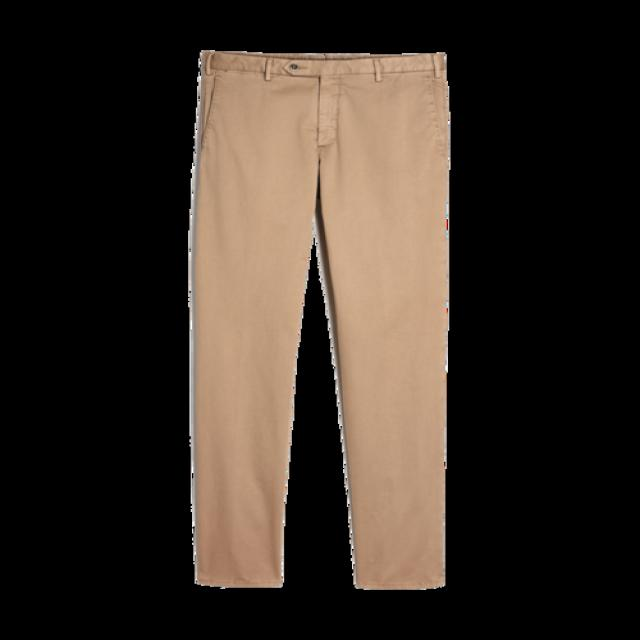long-pants: (192, 52, 445, 592)
